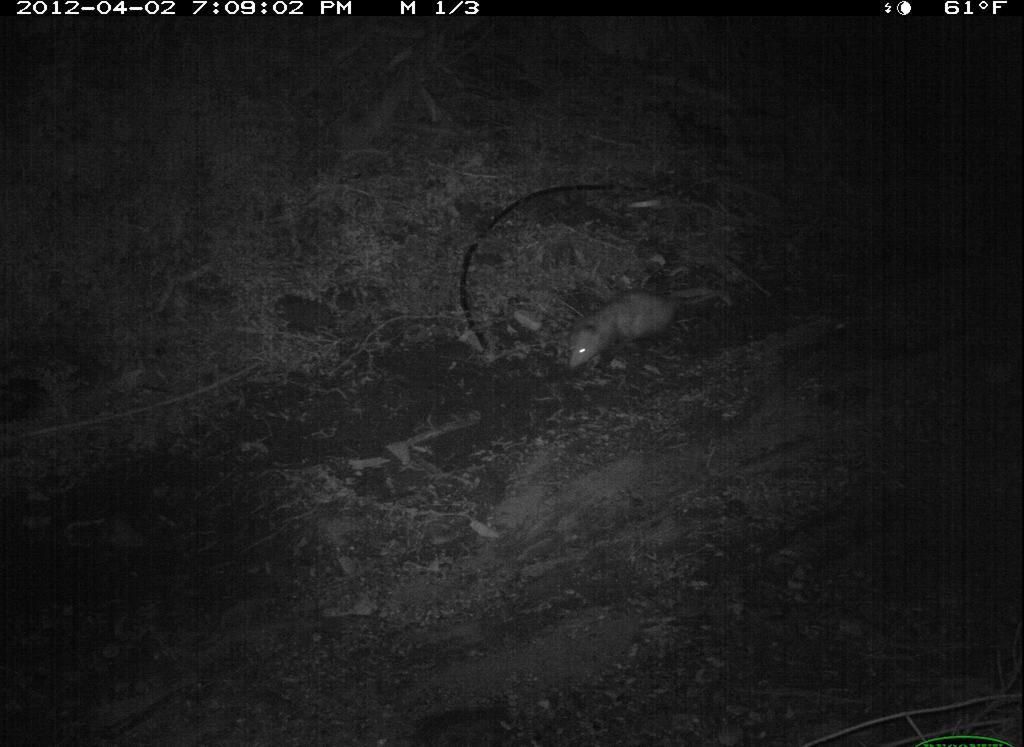opossum: (556, 276, 702, 382)
